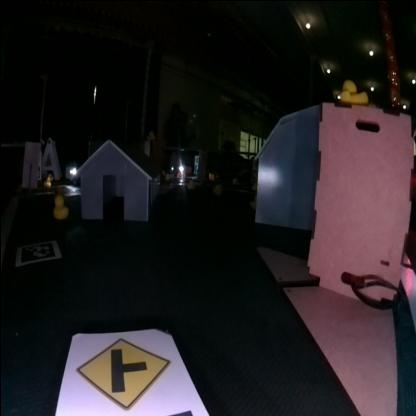Duckie: (341, 78, 367, 106), (52, 194, 66, 216), (44, 176, 50, 184)
Intersection sign: (74, 336, 170, 408)
QR code: (17, 241, 58, 264)
